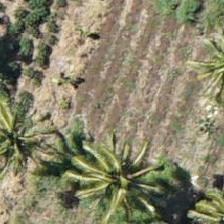coconut_tree: (70, 135, 160, 223), (0, 90, 52, 180)
